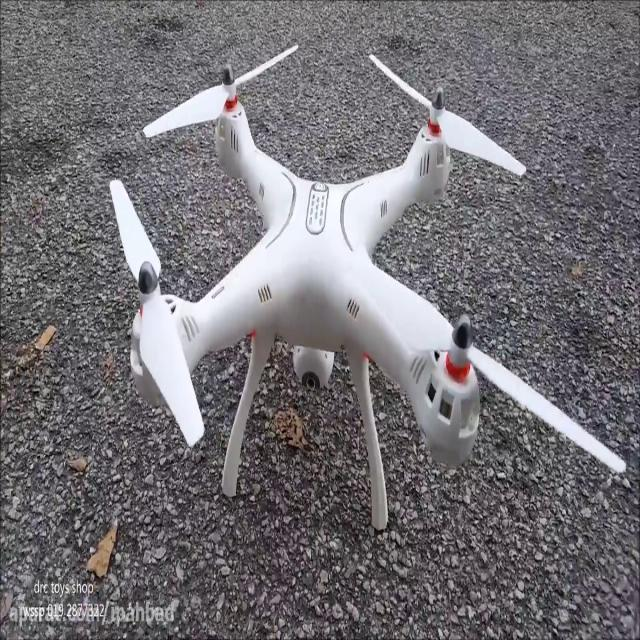drone: (107, 41, 626, 532)
